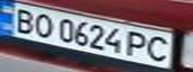0: (54, 16, 75, 44)
2: (87, 22, 106, 52)
4: (103, 26, 127, 55)
6: (69, 19, 90, 47)
B: (6, 6, 39, 35)
C: (142, 34, 175, 64)
O: (30, 11, 57, 38)
P: (124, 29, 151, 60)
